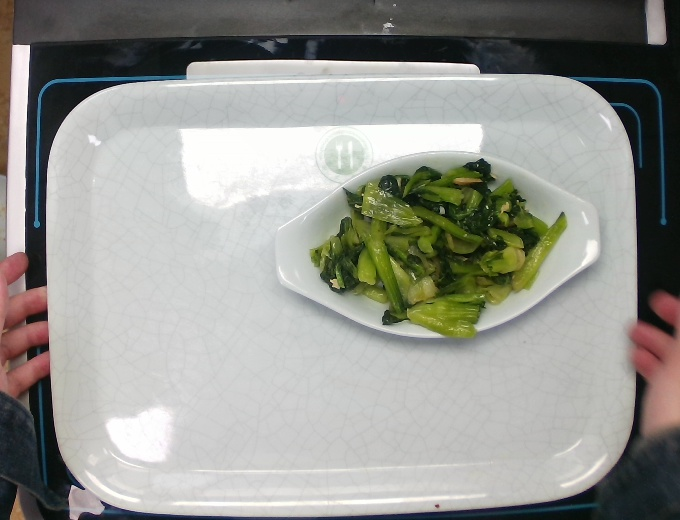JYsf-Yu_Pan: (269, 146, 605, 342)
